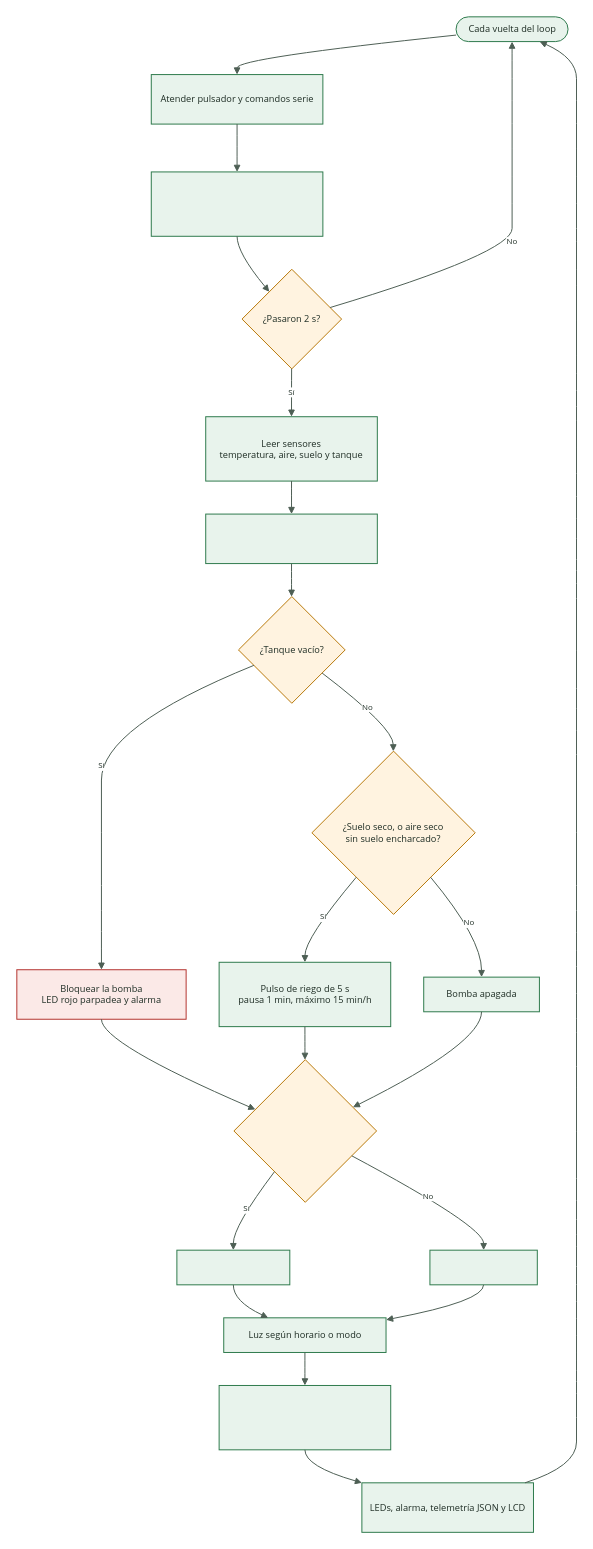
The diagram is 593 pixels wide and 1549 high, and some of its shapes have lost their labels. The shapes that lost their labels are listed below. From the top down, each one's centre as x and y in pixels, then its label:
At pixel 236 203: "Actualizar actuadores fin de pulso, parpadeos, pitidos".
At pixel 291 538: "ReglaControl evalúa con histéresis".
At pixel 305 1131: "¿Calor, aire húmedo o falla del sensor?".
At pixel 233 1267: "Pedir ventilador".
At pixel 483 1267: "Sin ventilación".
At pixel 304 1417: "Reparto de energía bomba, luego ventilador, luego luz".
